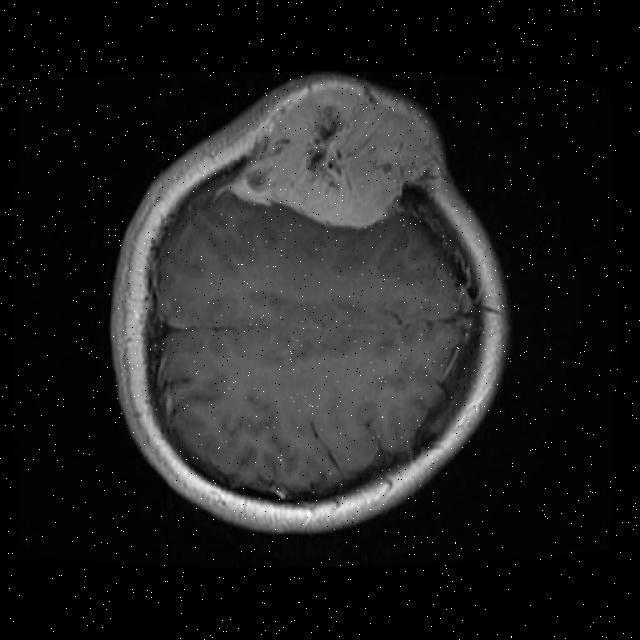Meningioma: (229, 81, 443, 227)
